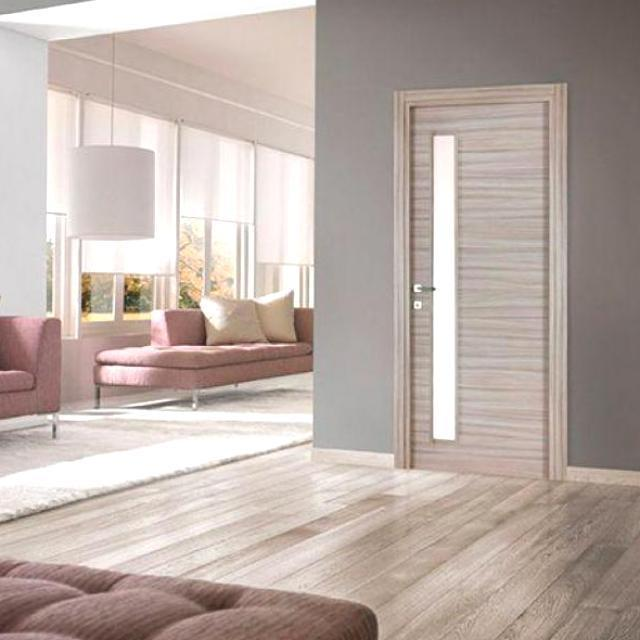door: (395, 82, 564, 480)
